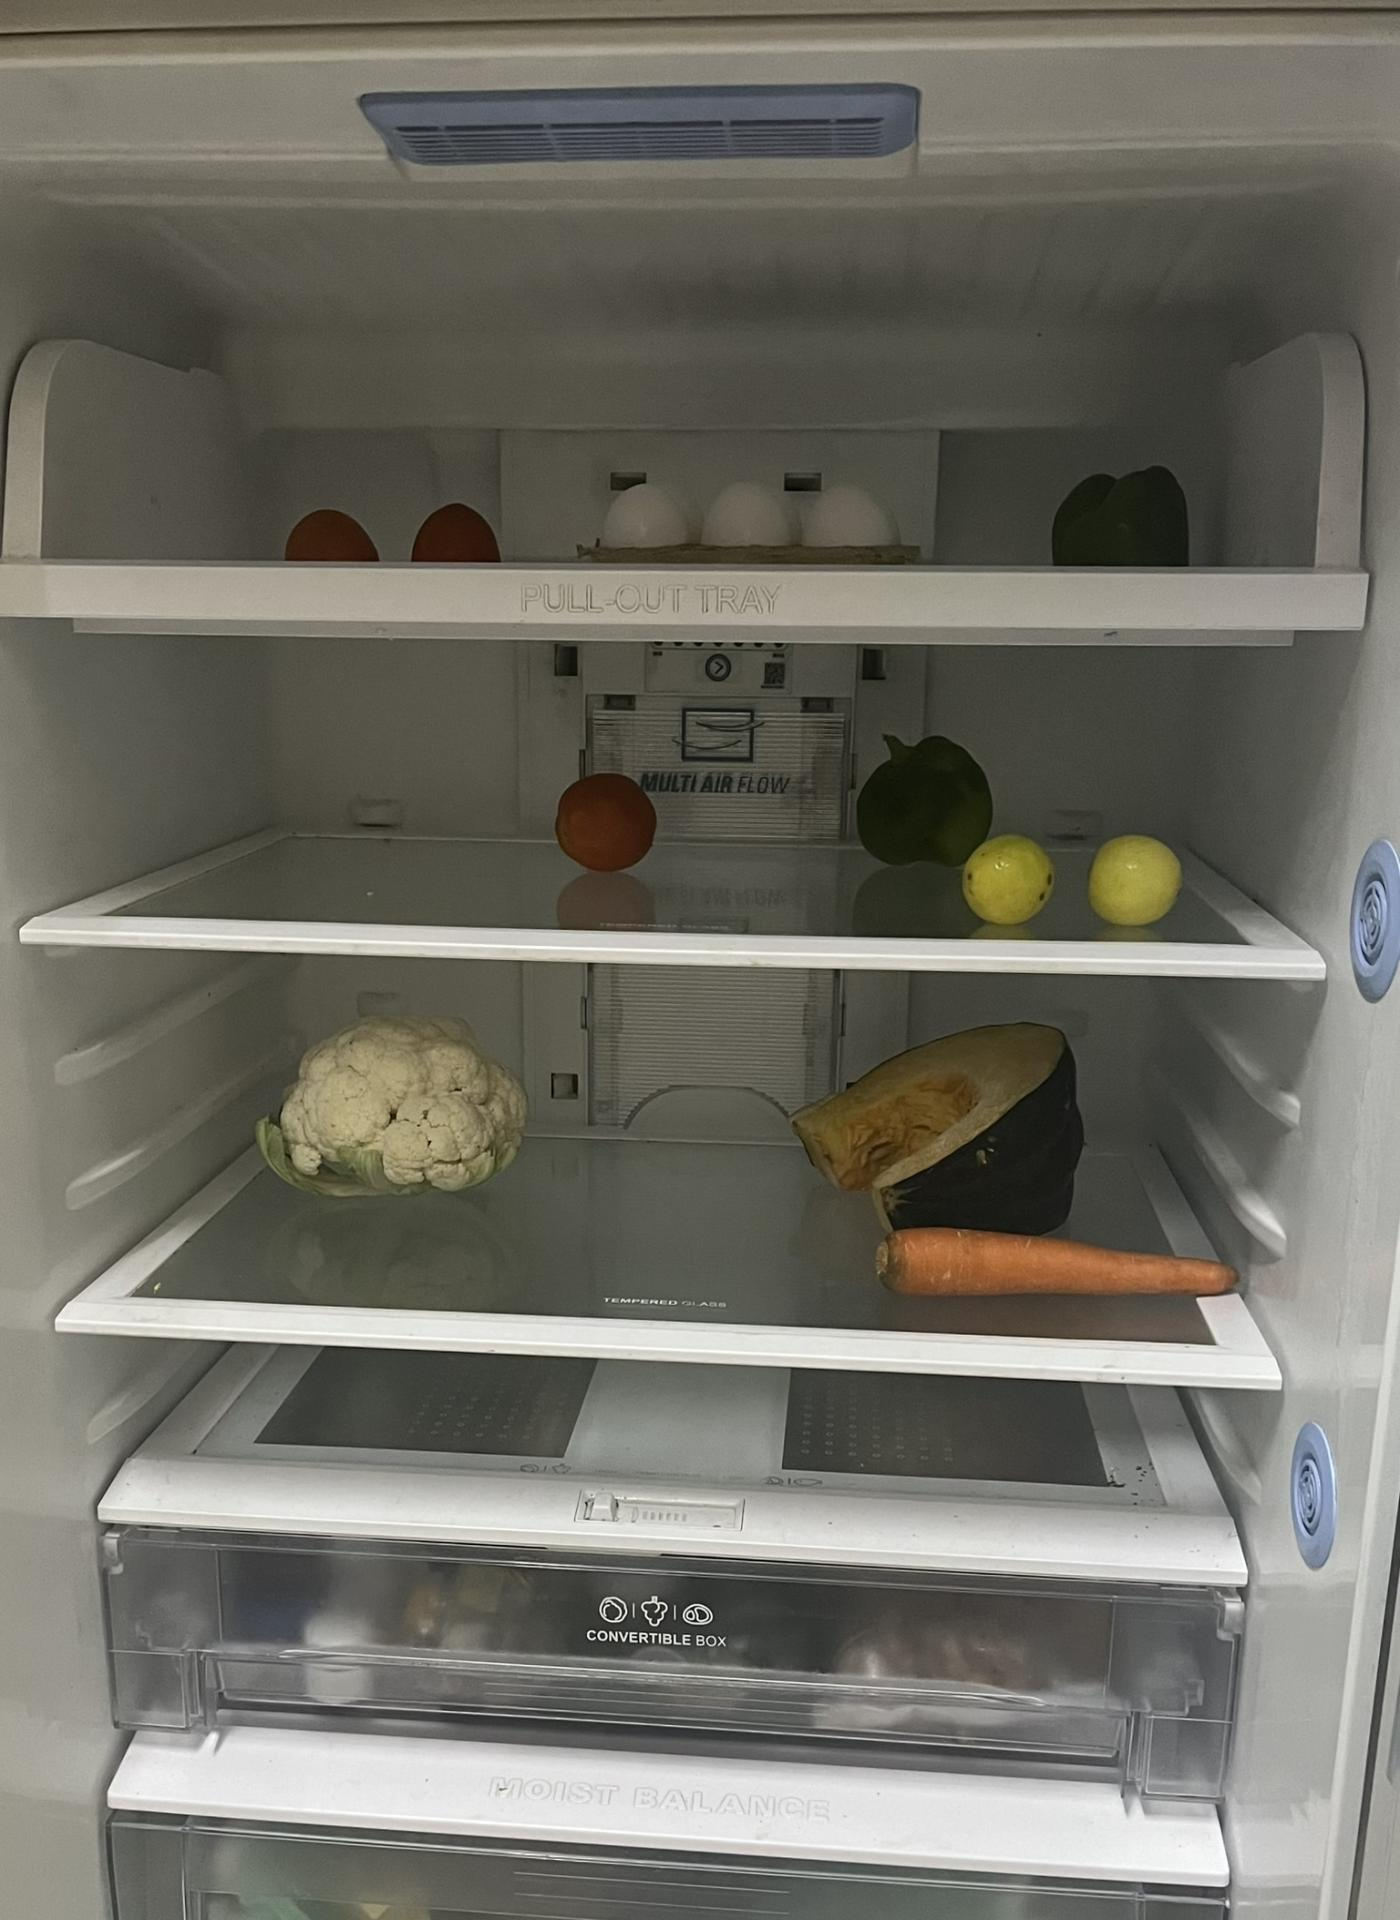capsicum: (862, 729, 988, 868), (1051, 470, 1190, 565)
carrots: (883, 1231, 1230, 1295)
cauliflower: (252, 1012, 531, 1187)
egg: (604, 486, 895, 563)
lemon: (1091, 832, 1181, 926), (966, 832, 1057, 923)
pumpkin: (787, 1014, 1085, 1225)
tomato: (282, 498, 499, 563), (556, 775, 662, 881)
